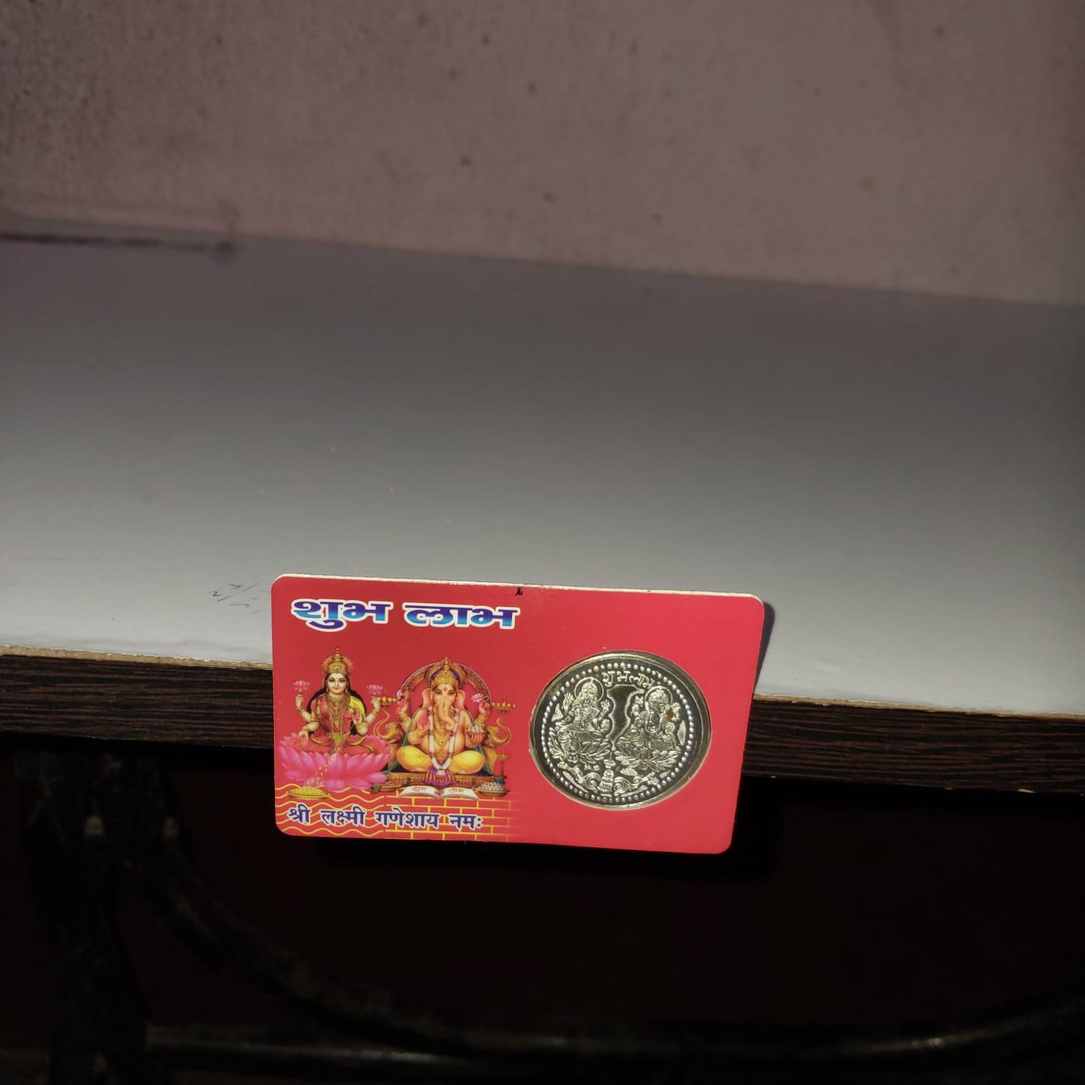blessing_card: (266, 571, 769, 857)
